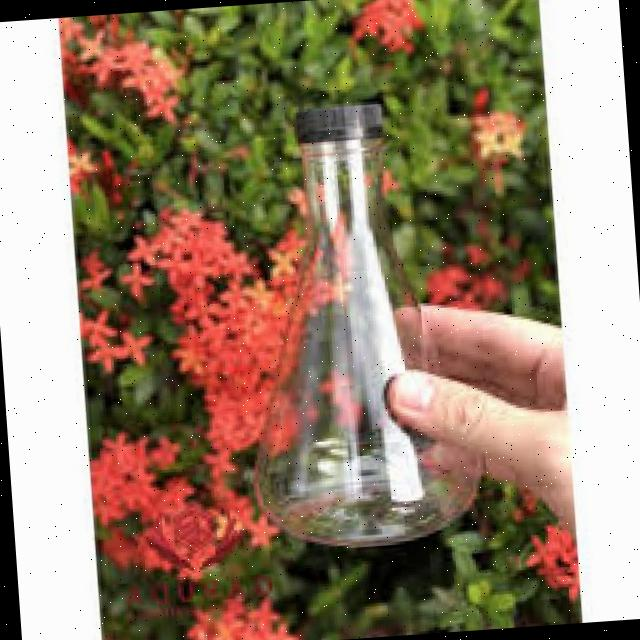bottle: (218, 96, 486, 560)
cap: (286, 94, 382, 152)
